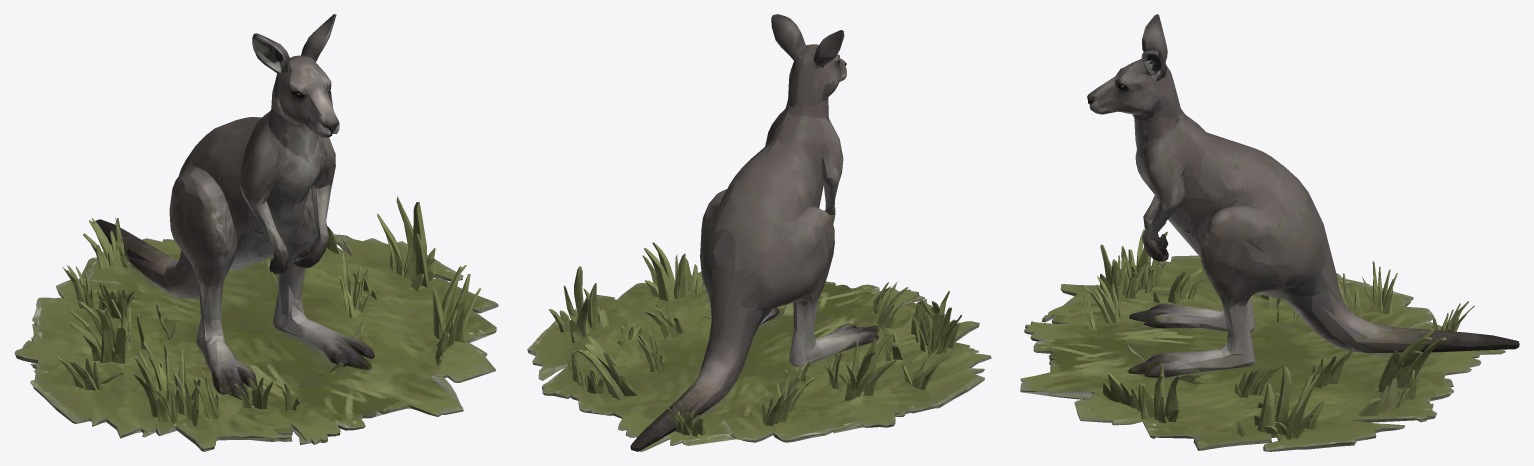
Rendered from kangaroo.glb.
3 renders of one model, left to right at view 1: azimuth 30°, elevation 25°; view 2: azimuth 150°, elevation 25°; view 3: azimuth 270°, elevation 25°, orthographic. The views are drawn at different scales.
Size of the model in its own units: 1.75 by 1.35 by 1.9.
1 material, 1 textured.
